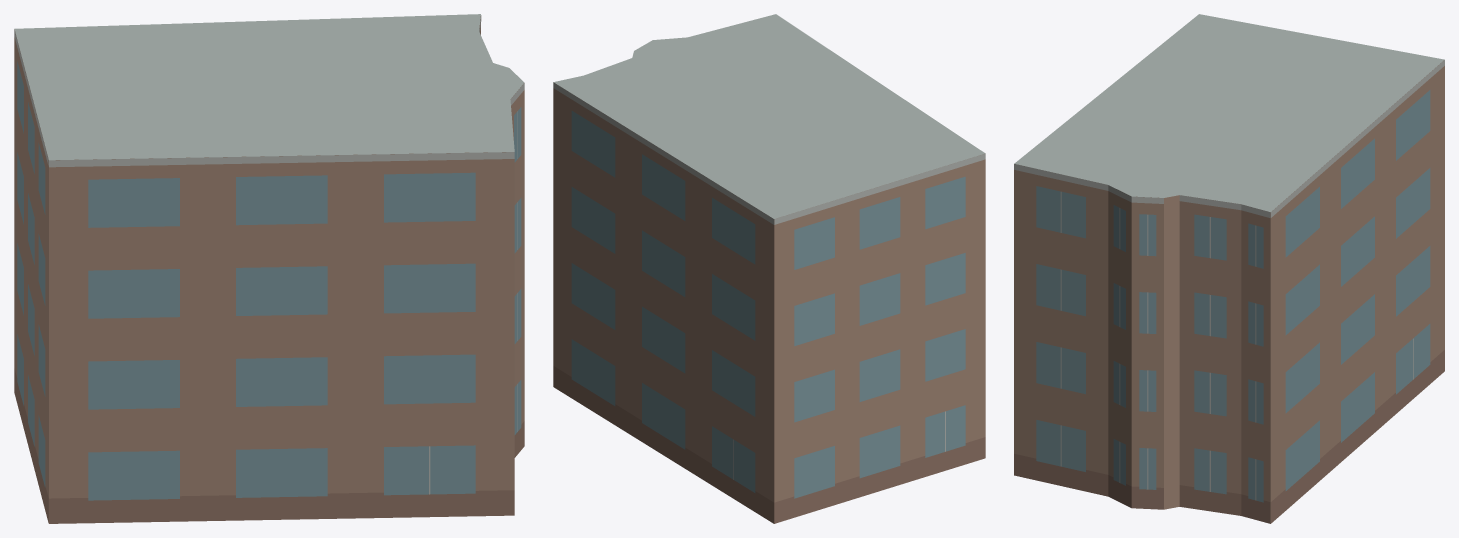
The model's file is survey-upis-32479172.glb.
The picture shows the model from 3 angles, left to right: view 1: azimuth 30°, elevation 25°; view 2: azimuth 150°, elevation 25°; view 3: azimuth 270°, elevation 25°; orthographic projection. The views are drawn at different scales.
Parts seen in each view (by area): view 1: survey-upis-32479172.tmp; view 2: survey-upis-32479172.tmp; view 3: survey-upis-32479172.tmp.
Boxes of the visible parts, x1=… form: survey-upis-32479172.tmp: x1=14, y1=14, x2=524, y2=523; survey-upis-32479172.tmp: x1=553, y1=14, x2=985, y2=523; survey-upis-32479172.tmp: x1=1014, y1=14, x2=1444, y2=523.
Bounding box in the file's own units: 17.2 × 12.6 × 15.79.
